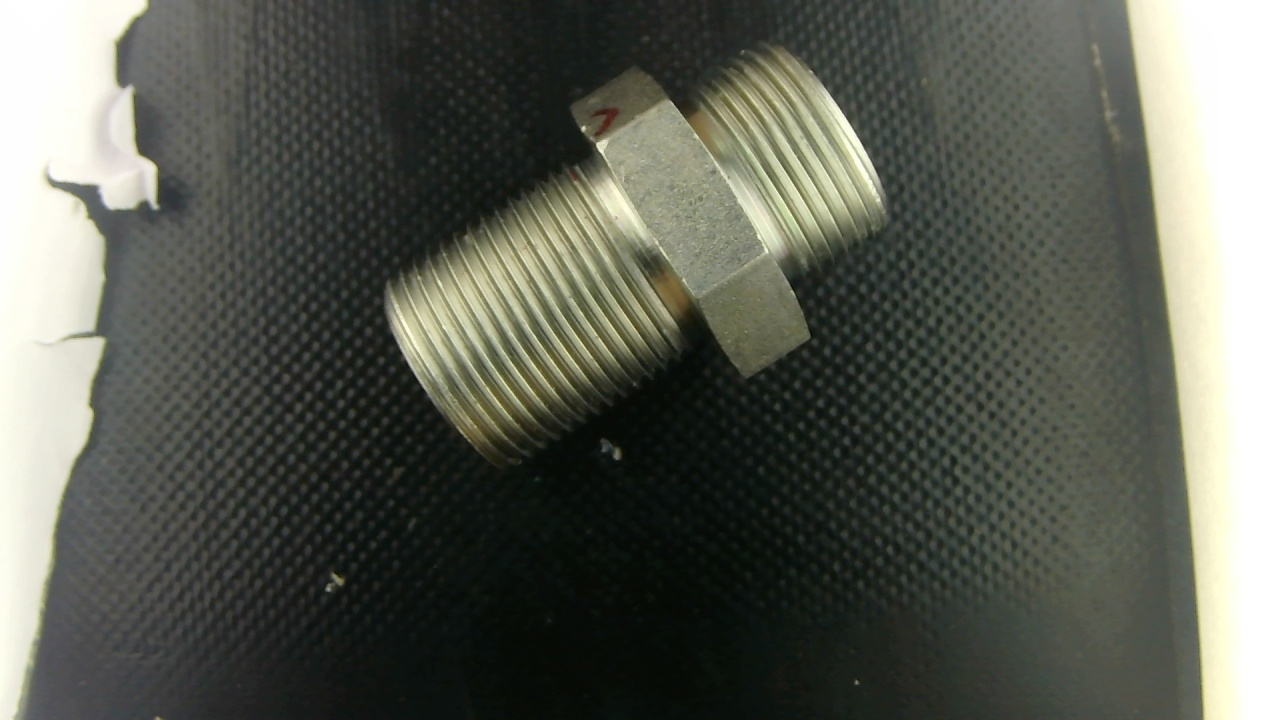SurfaceDent_Adaptor: (578, 120, 591, 136)
